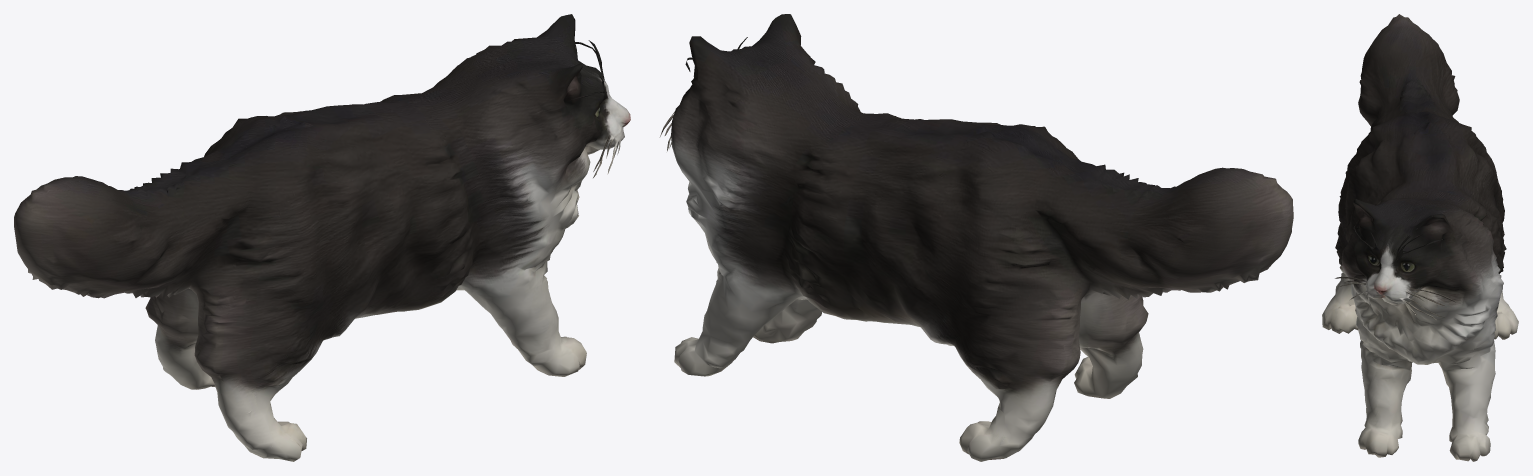
The model's file is MEDIACAT.glb.
3 views of the same model, side by side, from view 1: azimuth 30°, elevation 25°; view 2: azimuth 150°, elevation 25°; view 3: azimuth 270°, elevation 25° (orthographic). The views are drawn at different scales.
Visible parts, largest first — view 1: tripo_node_fb4ba505-61ba-4666-a621-dc5dc32e7143; view 2: tripo_node_fb4ba505-61ba-4666-a621-dc5dc32e7143; view 3: tripo_node_fb4ba505-61ba-4666-a621-dc5dc32e7143.
Part boxes in pixels (bbox=[...]): tripo_node_fb4ba505-61ba-4666-a621-dc5dc32e7143: bbox=[14, 14, 630, 461]; tripo_node_fb4ba505-61ba-4666-a621-dc5dc32e7143: bbox=[659, 14, 1293, 461]; tripo_node_fb4ba505-61ba-4666-a621-dc5dc32e7143: bbox=[1322, 14, 1518, 461].
Size of the model in its own units: 2.01 by 1 by 0.7016.
1 material, 1 textured.
